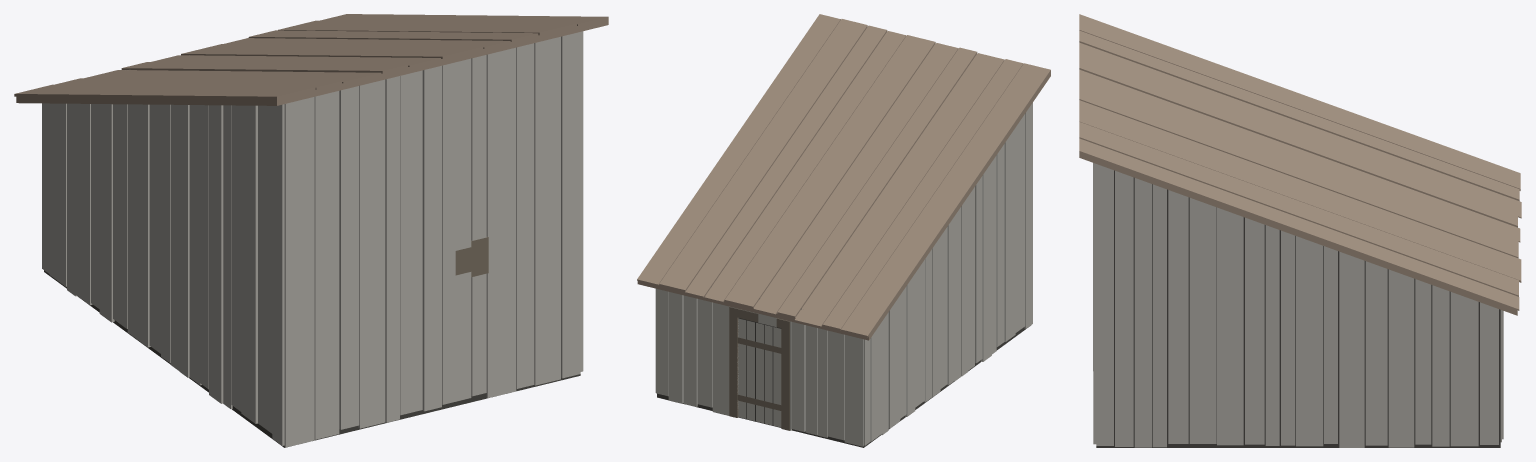
Rendered from recon_1835_blk_lake_market_d2_04__inferred_1835.glb.
3 renders of one model, left to right at view 1: azimuth 30°, elevation 25°; view 2: azimuth 150°, elevation 25°; view 3: azimuth 270°, elevation 25°, orthographic. The views are drawn at different scales.
Visible parts, largest first — view 1: recon_1835_blk_lake_market_d2_04__inferred_1835; view 2: recon_1835_blk_lake_market_d2_04__inferred_1835; view 3: recon_1835_blk_lake_market_d2_04__inferred_1835.
Part boxes in pixels (x1,y1,x2,y2): recon_1835_blk_lake_market_d2_04__inferred_1835: (14, 14, 608, 447); recon_1835_blk_lake_market_d2_04__inferred_1835: (637, 14, 1050, 447); recon_1835_blk_lake_market_d2_04__inferred_1835: (1079, 14, 1521, 447).
Size of the model in its own units: 4.52 by 4.73 by 6.22.
